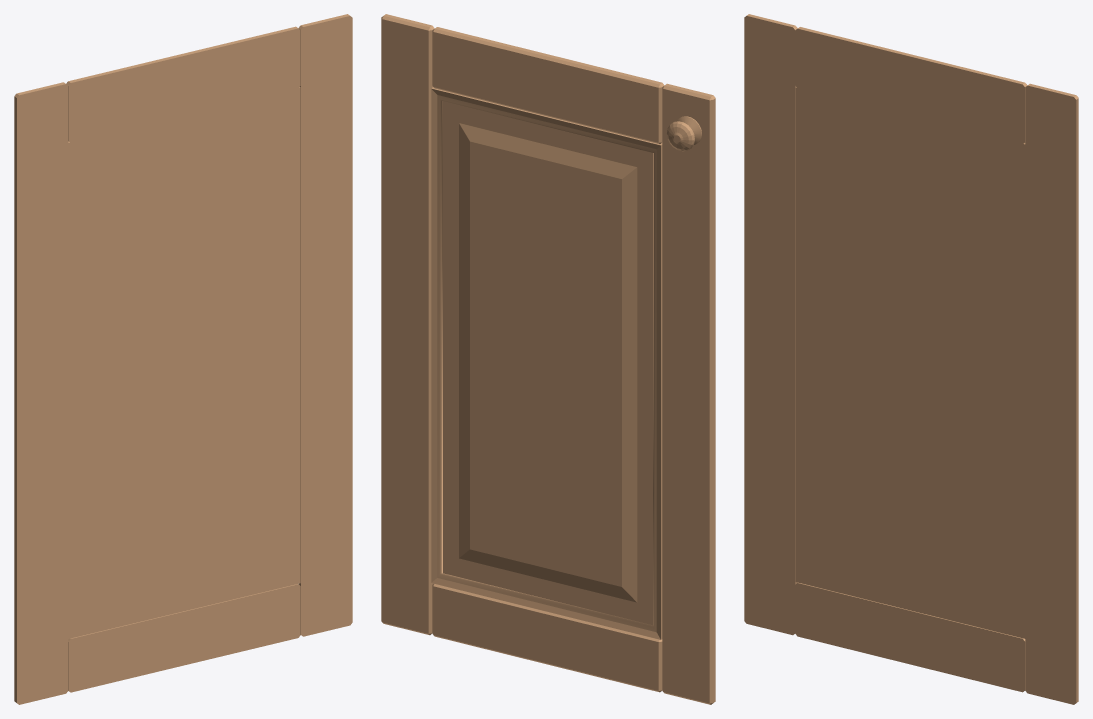
File: puerta_alacenaC.obj
3 views of the same model, side by side, from view 1: azimuth 30°, elevation 25°; view 2: azimuth 150°, elevation 25°; view 3: azimuth 330°, elevation 25° (orthographic).
Visible parts, largest first — view 1: polySurface1213; view 2: polySurface1213; view 3: polySurface1213.
Part boxes in pixels (x1,y1,x2,y2): polySurface1213: (14,14,352,704); polySurface1213: (381,14,715,704); polySurface1213: (744,14,1078,704).
Bounding box in the file's own units: 1.15 × 2.01 × 0.0981.
Materials: 1 (1 with a texture image).
